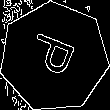P_E: (25, 30, 84, 84)
